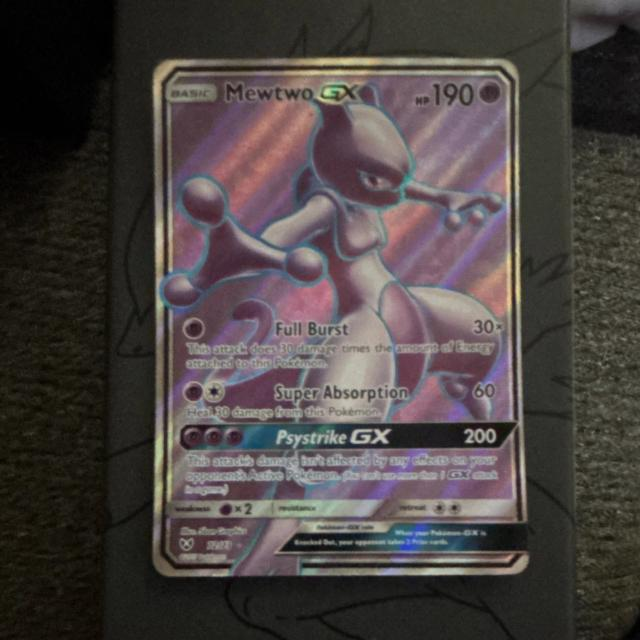Card: (146, 54, 533, 582)
Name: (218, 78, 369, 107)
